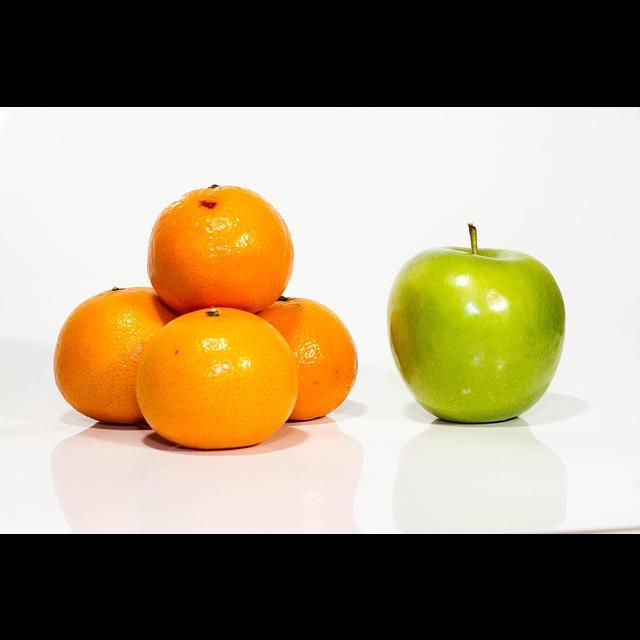durian: (381, 240, 575, 434)
orange: (142, 161, 312, 321), (140, 308, 302, 450), (44, 275, 178, 436), (235, 295, 360, 424)
